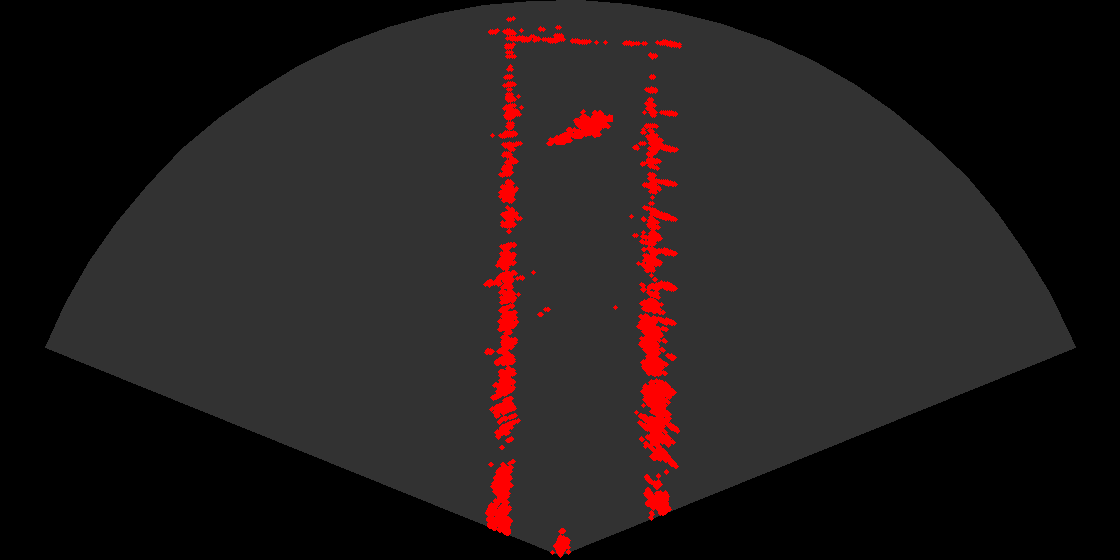frogman: (545, 103, 613, 150)
